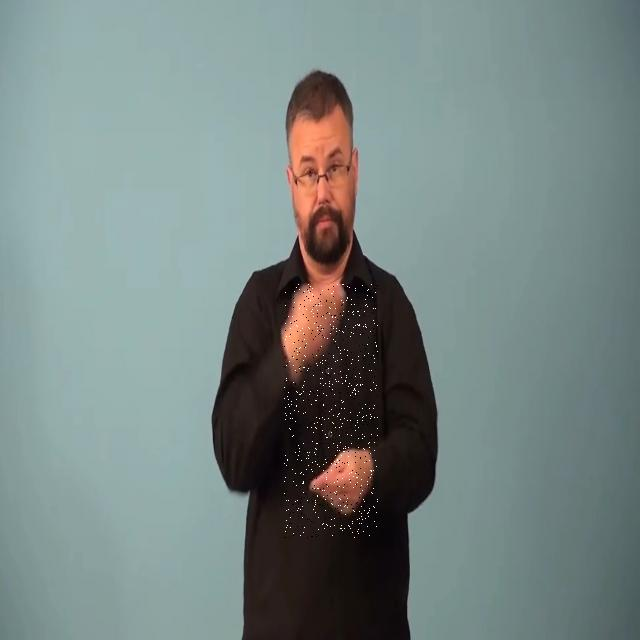cash: (284, 284, 378, 538)
